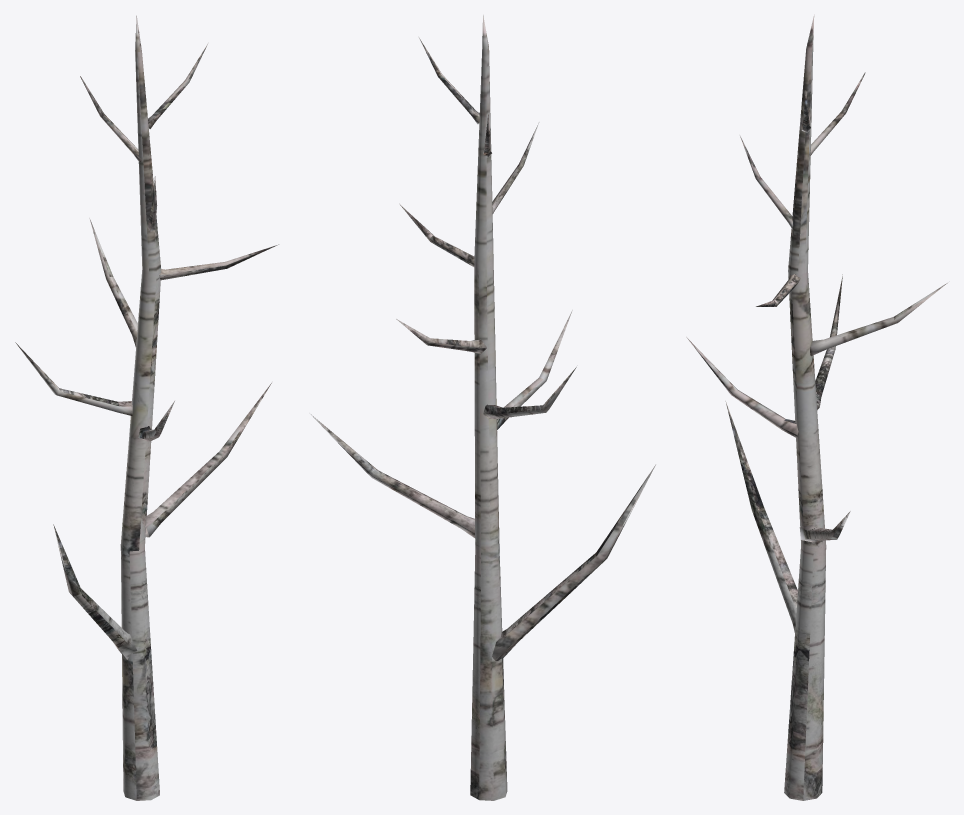
Rendered from Bereza1.fbx.
The picture shows the model from 3 angles, left to right: view 1: azimuth 30°, elevation 25°; view 2: azimuth 150°, elevation 25°; view 3: azimuth 270°, elevation 25°; orthographic projection.
Visible parts, largest first — view 1: Bereza1; view 2: Bereza1; view 3: Bereza1.
Boxes of the visible parts, x1=… form: Bereza1: x1=15, y1=15, x2=278, y2=800; Bereza1: x1=309, y1=15, x2=655, y2=800; Bereza1: x1=686, y1=14, x2=947, y2=800.
Bounding box in the file's own units: 8.55 × 22.42 × 6.89.
